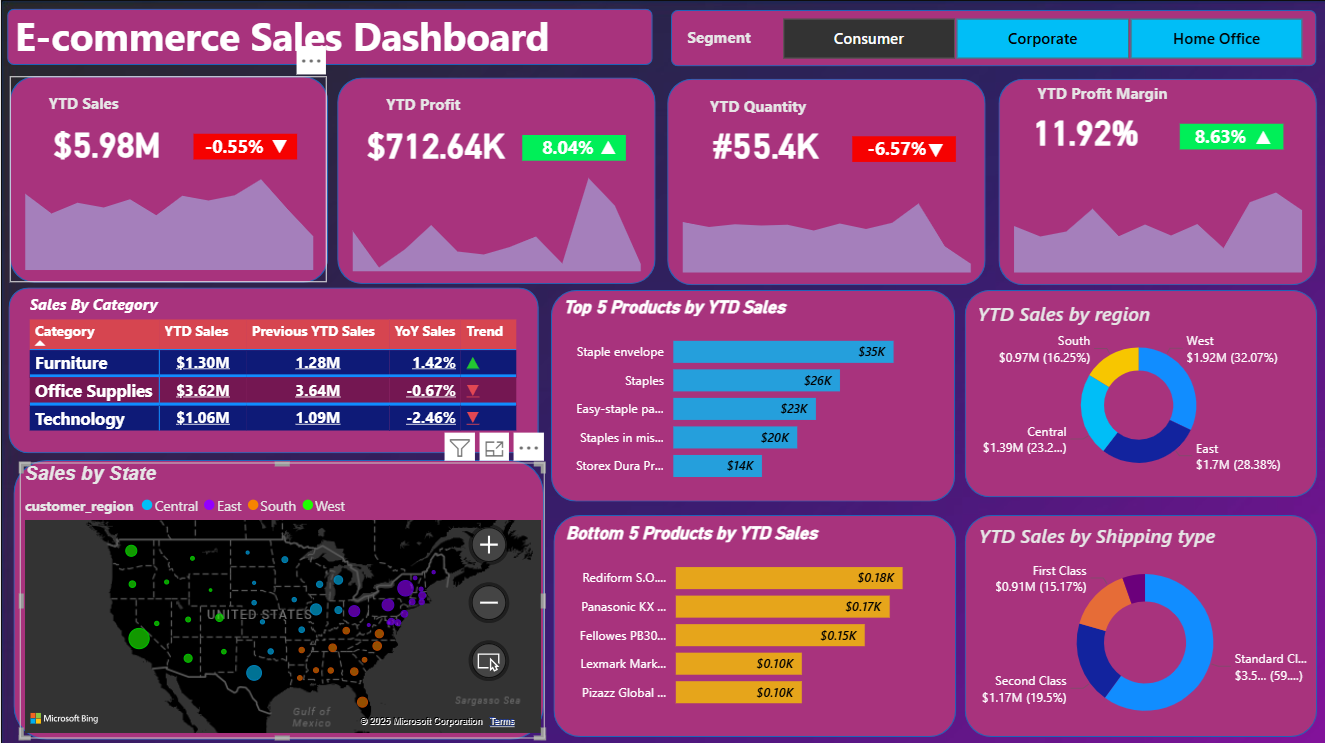

The dashboard page shown, as its layout file describes it:
{"tool":"powerbi","page":{"name":"Page 1","canvas":[1280,720],"ordinal":0},"visuals":[{"type":"shape","box":[5.7,8.6,622.9,54.3],"z":0},{"type":"textbox","box":[7.9,4.6,556.4,69.2],"z":1000},{"type":"shape","box":[7.9,73.8,307.3,199.3],"z":2000},{"type":"card","fields":{"Values":["ecommerce_data.YTD Sales"]},"box":[25.9,100.9,154.3,72.9],"z":3000},{"type":"areaChart","fields":{"Category":["Calender.Month"],"Y":["Sum(ecommerce_data.sales_per_order)","select"]},"box":[8,151.3,308.3,115],"z":4000},{"type":"shape","box":[186.3,129.7,100,25],"z":5000},{"type":"card","fields":{"Values":["ecommerce_data.YoY Sales"]},"box":[176.3,126.3,98.3,33.3],"z":6000},{"type":"card","fields":{"Values":["ecommerce_data.Sales Icon"]},"box":[249.7,126.3,38.3,33.3],"z":7000},{"type":"textbox","box":[41.3,84.7,93.3,36.7],"z":8000},{"type":"shape","box":[325,75,307.3,199.3],"z":9000},{"type":"card","fields":{"Values":["ecommerce_data.YTD Profit"]},"box":[342.9,102,154.3,72.9],"z":10000},{"type":"areaChart","fields":{"Category":["Calender.Month"],"Y":["select","Sum(ecommerce_data.profit_per_order)"]},"box":[325.1,152.5,308.3,115],"z":11000},{"type":"shape","box":[503.4,130.9,100,25],"z":12000},{"type":"card","fields":{"Values":["ecommerce_data.YoY Profit"]},"box":[498.1,127.9,98.3,33.3],"z":13000},{"type":"card","fields":{"Values":["ecommerce_data.Profit Icon"]},"box":[566.8,127.5,38.3,33.3],"z":14000},{"type":"textbox","box":[366.4,86.2,93.3,36.7],"z":15000},{"type":"shape","box":[643,76,307.3,199.3],"z":16000},{"type":"card","fields":{"Values":["ecommerce_data.YTD Concat Qty"]},"box":[660.9,103,154.3,72.9],"z":17000},{"type":"areaChart","fields":{"Category":["Calender.Month"],"Y":["select","Sum(ecommerce_data.order_quantity)"]},"box":[643.1,153.5,308.3,115],"z":18000},{"type":"shape","box":[821.4,131.9,100,25],"z":19000},{"type":"card","fields":{"Values":["ecommerce_data.YoY Qty"]},"box":[815.8,128.4,98.6,34.3],"z":20000},{"type":"card","fields":{"Values":["ecommerce_data.Qty Icon"]},"box":[882.9,129.8,38.6,32.9],"z":21000},{"type":"textbox","box":[678.7,86.9,130,37.1],"z":22000},{"type":"shape","box":[963,76,307.3,199.3],"z":23000},{"type":"card","fields":{"Values":["ecommerce_data.YTD Profit Margin"]},"box":[970,89,154,73],"z":24000},{"type":"areaChart","fields":{"Category":["Calender.Month"],"Y":["select","ecommerce_data.Profit Margin"]},"box":[963.1,153.5,308.3,115],"z":25000},{"type":"shape","box":[1137.4,119.9,100,25],"z":26000},{"type":"card","fields":{"Values":["ecommerce_data.YoY Profit Margin"]},"box":[1127.5,116,98.2,35.5],"z":27000},{"type":"card","fields":{"Values":["ecommerce_data.PM Icon"]},"box":[1198.9,117.8,38.6,32.9],"z":28000},{"type":"textbox","box":[995,75,162,37],"z":29000},{"type":"shape","box":[7.7,278,511.7,160],"z":30000},{"type":"pivotTable","title":"Sales By Category","fields":{"Values":["ecommerce_data.YTD Sales","ecommerce_data.Previous YTD Sales","ecommerce_data.YoY Sales","ecommerce_data.Sales Icon"],"Rows":["ecommerce_data.category_name"]},"box":[22.7,284,480,153.3],"z":31000},{"type":"shape","box":[12,444,512,270],"z":32000},{"type":"map","title":"   Sales by State","fields":{"X":["us_state_long_lat_codes.longitude"],"Y":["us_state_long_lat_codes.latitude"],"Size":["ecommerce_data.YTD Sales"],"Series":["ecommerce_data.customer_region"]},"box":[17.5,446.2,507.5,266.2],"z":33000},{"type":"shape","box":[531.4,280,390,204.3],"z":34000},{"type":"shape","box":[532.9,497.1,388.6,214.3],"z":35000},{"type":"barChart","title":"Top 5 Products by YTD Sales","fields":{"Category":["ecommerce_data.product_name"],"Y":["ecommerce_data.YTD Sales"]},"box":[538.6,285.7,375.7,191.4],"z":36000},{"type":"barChart","title":"Bottom 5 Products by YTD Sales","fields":{"Category":["ecommerce_data.product_name"],"Y":["ecommerce_data.YTD Sales"]},"box":[540,504.3,375.7,191.4],"z":37000},{"type":"shape","box":[930,280,340,200],"z":38000},{"type":"shape","box":[930,497.1,340,214.3],"z":39000},{"type":"donutChart","title":"YTD Sales by region","fields":{"Category":["ecommerce_data.customer_region"],"Y":["ecommerce_data.YTD Sales"]},"box":[937.1,290,321.4,178.6],"z":40000},{"type":"donutChart","title":"YTD Sales by Shipping type","fields":{"Category":["ecommerce_data.shipping_type"],"Y":["ecommerce_data.YTD Sales"]},"box":[938.6,504.3,331.4,207.1],"z":41000},{"type":"shape","box":[647.1,10,622.9,54.3],"z":42000},{"type":"slicer","fields":{"Values":["ecommerce_data.customer_segment"]},"box":[728.6,11.4,551.4,52.9],"z":43000},{"type":"textbox","box":[657.1,20,87.1,37.1],"z":44000}]}

Visuals, with their boxes in screenshot pixels (x1, y1, x2, y2), scaled from the page's 1280x720 canvas onto the 1325x743 screenshot:
shape: l=6, t=9, r=651, b=65
textbox: l=8, t=5, r=584, b=76
shape: l=8, t=76, r=326, b=282
card - ecommerce_data.YTD Sales: l=27, t=104, r=187, b=179
areaChart - Calender.Month x Sum(ecommerce_data.sales_per_order): l=8, t=156, r=327, b=275
shape: l=193, t=134, r=296, b=160
card - ecommerce_data.YoY Sales: l=182, t=130, r=284, b=165
card - ecommerce_data.Sales Icon: l=258, t=130, r=298, b=165
textbox: l=43, t=87, r=139, b=125
shape: l=336, t=77, r=655, b=283
card - ecommerce_data.YTD Profit: l=355, t=105, r=515, b=180
areaChart - Calender.Month x select: l=337, t=157, r=656, b=276
shape: l=521, t=135, r=625, b=161
card - ecommerce_data.YoY Profit: l=516, t=132, r=617, b=166
card - ecommerce_data.Profit Icon: l=587, t=132, r=626, b=166
textbox: l=379, t=89, r=476, b=127
shape: l=666, t=78, r=984, b=284
card - ecommerce_data.YTD Concat Qty: l=684, t=106, r=844, b=182
areaChart - Calender.Month x select: l=666, t=158, r=985, b=277
shape: l=850, t=136, r=954, b=162
card - ecommerce_data.YoY Qty: l=844, t=133, r=947, b=168
card - ecommerce_data.Qty Icon: l=914, t=134, r=954, b=168
textbox: l=703, t=90, r=837, b=128
shape: l=997, t=78, r=1315, b=284
card - ecommerce_data.YTD Profit Margin: l=1004, t=92, r=1164, b=167
areaChart - Calender.Month x select: l=997, t=158, r=1316, b=277
shape: l=1177, t=124, r=1281, b=150
card - ecommerce_data.YoY Profit Margin: l=1167, t=120, r=1269, b=156
card - ecommerce_data.PM Icon: l=1241, t=122, r=1281, b=156
textbox: l=1030, t=77, r=1198, b=116
shape: l=8, t=287, r=538, b=452
"Sales By Category" pivotTable: l=23, t=293, r=520, b=451
shape: l=12, t=458, r=542, b=737
"   Sales by State" map: l=18, t=460, r=543, b=735
shape: l=550, t=289, r=954, b=500
shape: l=552, t=513, r=954, b=734
"Top 5 Products by YTD Sales" barChart: l=558, t=295, r=946, b=492
"Bottom 5 Products by YTD Sales" barChart: l=559, t=520, r=948, b=718
shape: l=963, t=289, r=1315, b=495
shape: l=963, t=513, r=1315, b=734
"YTD Sales by region" donutChart: l=970, t=299, r=1303, b=484
"YTD Sales by Shipping type" donutChart: l=972, t=520, r=1315, b=734
shape: l=670, t=10, r=1315, b=66
slicer - ecommerce_data.customer_segment: l=754, t=12, r=1324, b=66
textbox: l=680, t=21, r=770, b=59
